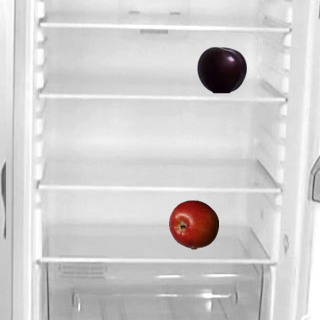Apple Braeburn: (168, 199, 218, 249)
Cherry Wax Black: (196, 44, 246, 94)
